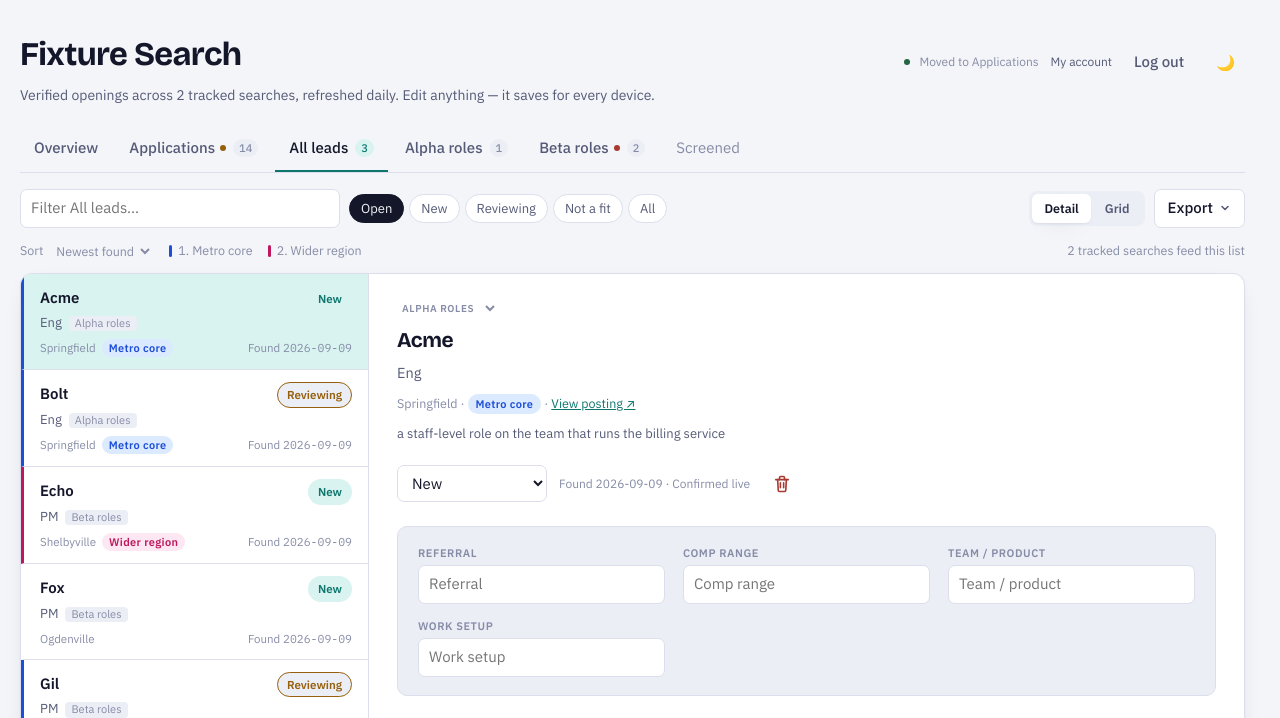
Scenario: moving a lead to another tab › reports the reason it was refused, rather than a generic failure
Expected: the heading "Fixture Search" is shown, left=20, top=34, right=241, bottom=74
Select "Beta roles" in the dropdown named "Tab": (444, 308) left=390, top=298, right=499, bottom=318
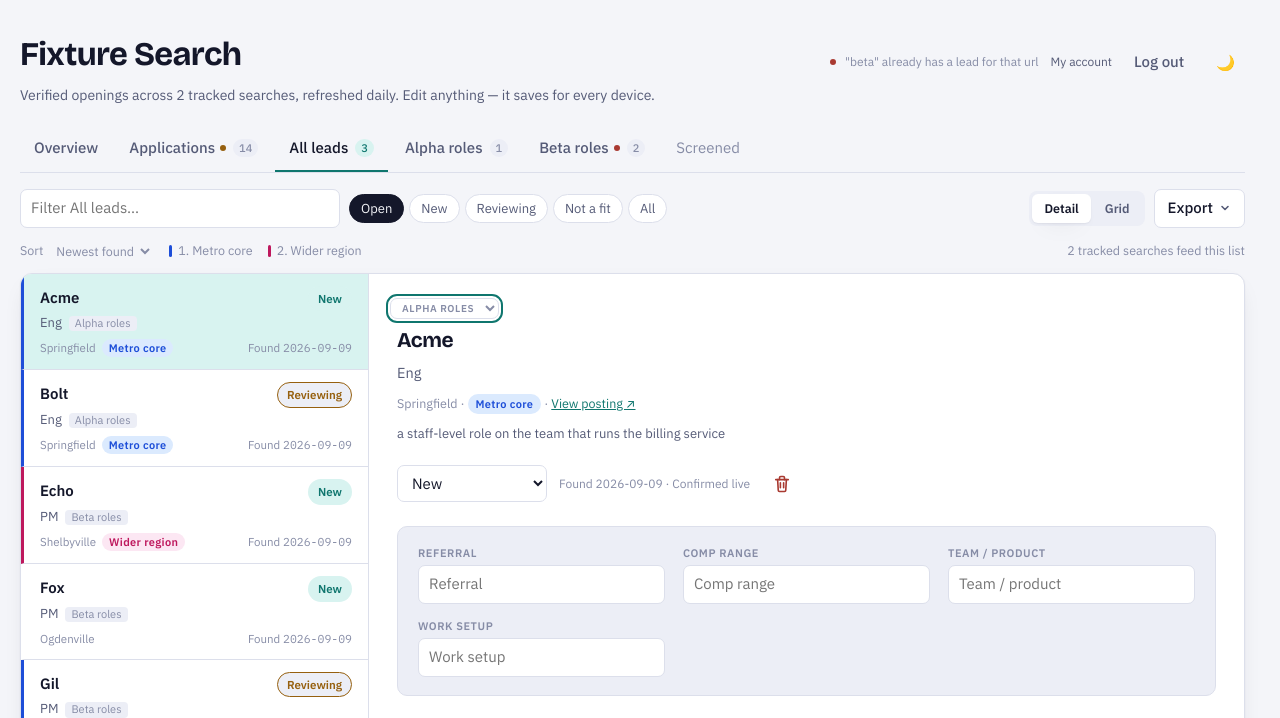
Now the message shows "already has a lead for that url", box left=845, top=54, right=1039, bottom=69
